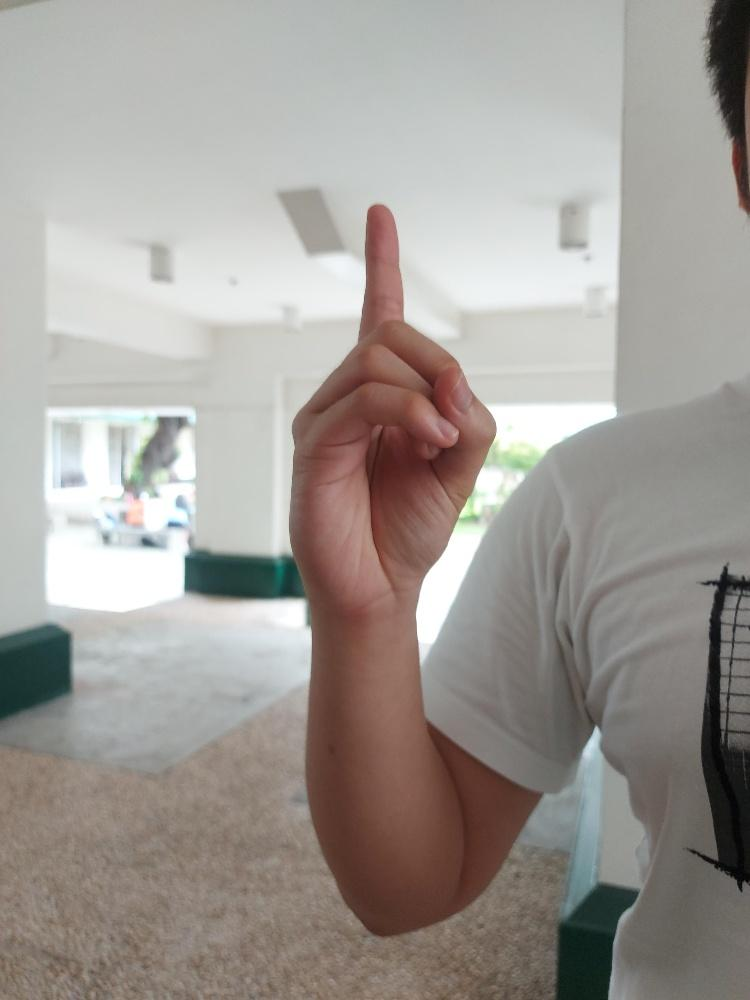d: (282, 195, 499, 610)
